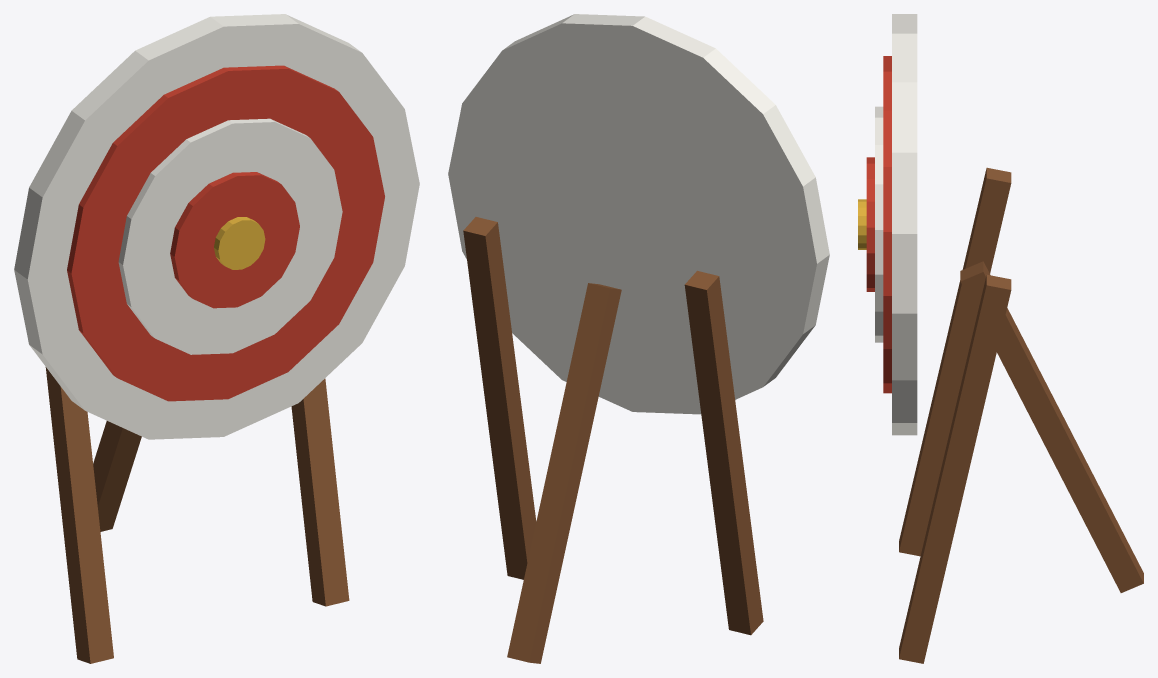
Rendered from target-lod0.glb.
3 views of the same model, side by side, from view 1: azimuth 30°, elevation 25°; view 2: azimuth 150°, elevation 25°; view 3: azimuth 270°, elevation 25° (orthographic). The views are drawn at different scales.
Visible parts, largest first — view 1: target; view 2: target; view 3: target.
Boxes of the visible parts, x1=… form: target: x1=14, y1=14, x2=419, y2=663; target: x1=448, y1=14, x2=829, y2=663; target: x1=858, y1=14, x2=1143, y2=663.
Size of the model in its own units: 1 by 1.5 by 0.6774.
